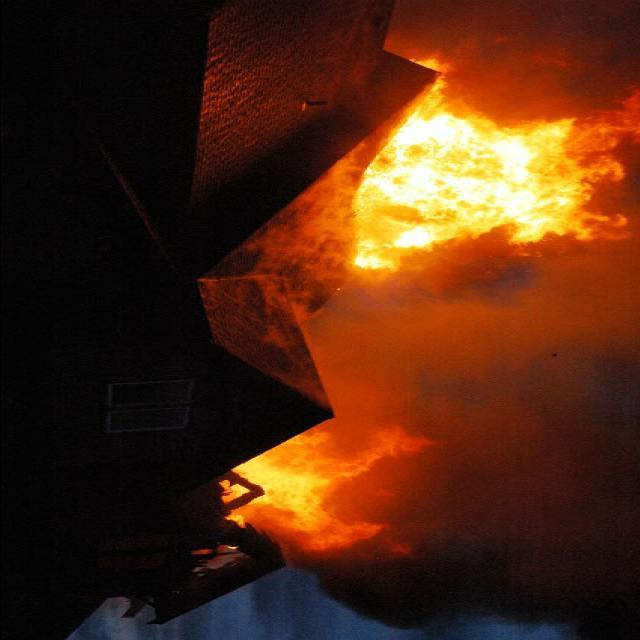Fire: (345, 91, 637, 270), (214, 412, 449, 562)
